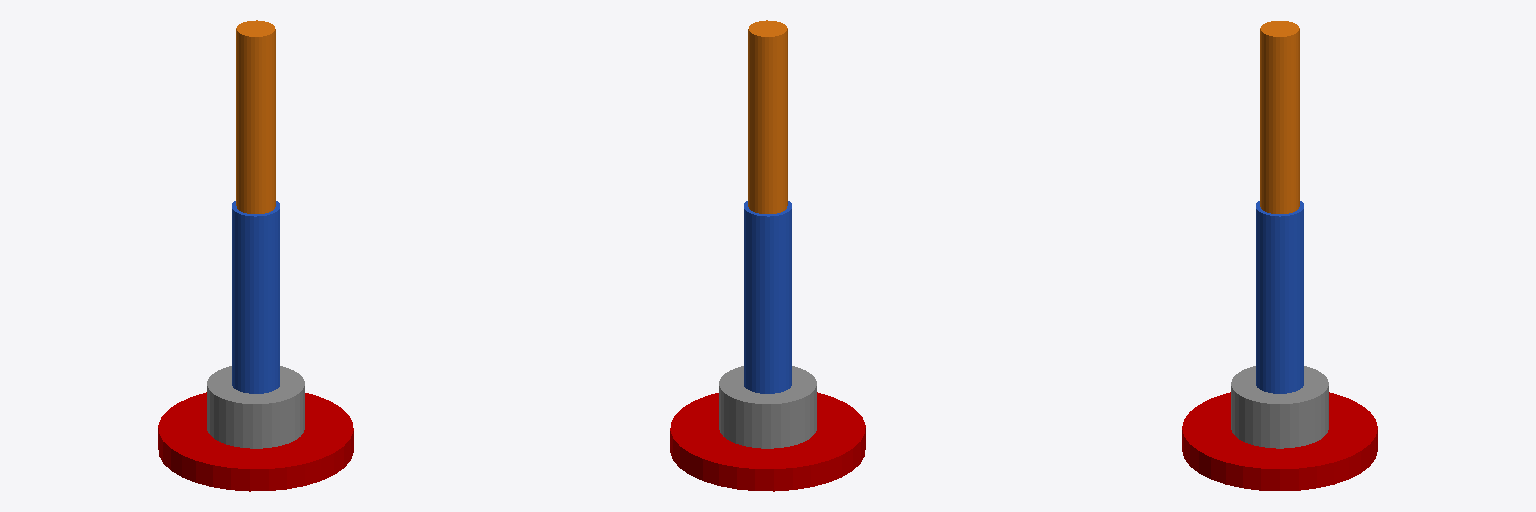
robot.urdf — cylinder_stack:
<?xml version="1.0"?>
<robot name="cylinder_stack">

  <link name="base_link">
    <visual>
      <geometry><cylinder radius="0.2" length="0.05"/></geometry>
      <origin xyz="0 0 0.025" rpy="0 0 0"/>
      <material name="red"><color rgba="0.8 0 0 1"/></material>
    </visual>
    <collision>
      <geometry><cylinder radius="0.2" length="0.5"/></geometry>
    </collision>
    <inertial>
      <mass value="0.5"/>
      <inertia ixx="0.01" ixy="0" ixz="0" iyy="0.01" iyz="0" izz="0.01"/>
    </inertial>
  </link>

  <link name="link0">
    <visual>
      <geometry><cylinder radius="0.1" length="0.1"/></geometry>
      <origin xyz="0 0 0.05" rpy="0 0 0"/>
      <material name="grey"><color rgba="0.6 0.6 0.6 1"/></material>
    </visual>
    <collision>
      <geometry><cylinder radius="0.1" length="0.5"/></geometry>
    </collision>
    <inertial>
      <mass value="1.0"/>
      <inertia ixx="0.01" ixy="0" ixz="0" iyy="0.01" iyz="0" izz="0.01"/>
    </inertial>
  </link>

  <joint name="joint0" type="continuous">
    <parent link="base_link"/>
    <child link="link0"/>
    <origin xyz="0 0 0.05" rpy="0 0 0"/>
    <axis xyz="0 0 1"/>
  </joint>

  <link name="link1">
    <visual>
      <geometry><cylinder radius="0.05" length="0.4"/></geometry>
      <origin xyz="0 0 0.2" rpy="0 0 0"/>
      <material name="blue"><color rgba="0.2 0.4 0.8 1"/></material>
    </visual>
    <collision>
      <geometry><cylinder radius="0.05" length="0.4"/></geometry>
      <origin xyz="0 0 0" rpy="0 0 0"/>
    </collision>
    <inertial>
      <mass value="0.5"/>
      <inertia ixx="0.005" ixy="0" ixz="0" iyy="0.005" iyz="0" izz="0.005"/>
    </inertial>
  </link>

  <joint name="joint1" type="revolute">
    <parent link="link0"/>
    <child link="link1"/>
    <origin xyz="0 0 0.1" rpy="0 0 0"/>
    <axis xyz="0 1 0"/>
    <limit lower="0" upper="1.57" effort="10" velocity="1"/>
  </joint>

  <link name="link2">
    <visual>
      <geometry><cylinder radius="0.04" length="0.4"/></geometry>
      <origin xyz="0 0 0.2" rpy="0 0 0"/>
      <material name="orange"><color rgba="0.9 0.5 0.1 1"/></material>
    </visual>
    <collision>
      <geometry><cylinder radius="0.04" length="0.2"/></geometry>
      <origin xyz="0 0 0.1" rpy="0 0 0"/>
    </collision>
    <inertial>
      <mass value="0.3"/>
      <inertia ixx="0.003" ixy="0" ixz="0" iyy="0.003" iyz="0" izz="0.003"/>
    </inertial>
  </link>

  <joint name="joint2" type="revolute">
    <parent link="link1"/>
    <child link="link2"/>
    <origin xyz="0 0 0.4" rpy="0 0 0"/>
    <axis xyz="0 1 0"/>
    <limit lower="0" upper="1.57" effort="10" velocity="1"/>
  </joint>

</robot>

--- Render facts (derived) ---
3 views of the same robot in one strip: view 1: azimuth 30°, elevation 25°; view 2: azimuth 150°, elevation 25°; view 3: azimuth 270°, elevation 25° (orthographic).
Robot: cylinder_stack — 4 links, 3 joints (2 revolute, 1 continuous); root link base_link; default pose: every joint at zero.
Visible links, largest first — view 1: base_link, link1, link2, link0; view 2: base_link, link1, link2, link0; view 3: base_link, link1, link2, link0.
Link boxes in pixels (x1,y1,x2,y2): base_link: (158, 392, 353, 491); link1: (232, 201, 279, 393); link2: (236, 20, 275, 213); link0: (207, 366, 304, 448); base_link: (670, 392, 865, 491); link1: (744, 201, 791, 393); link2: (748, 20, 787, 213); link0: (719, 366, 816, 448); base_link: (1182, 392, 1377, 490); link1: (1256, 201, 1303, 393); link2: (1260, 21, 1299, 213); link0: (1231, 366, 1328, 448).
Size in the robot's own frame: 0.4 by 0.4 by 0.95 metres.
Geometry: primitives only (box / cylinder / sphere), no mesh files.
